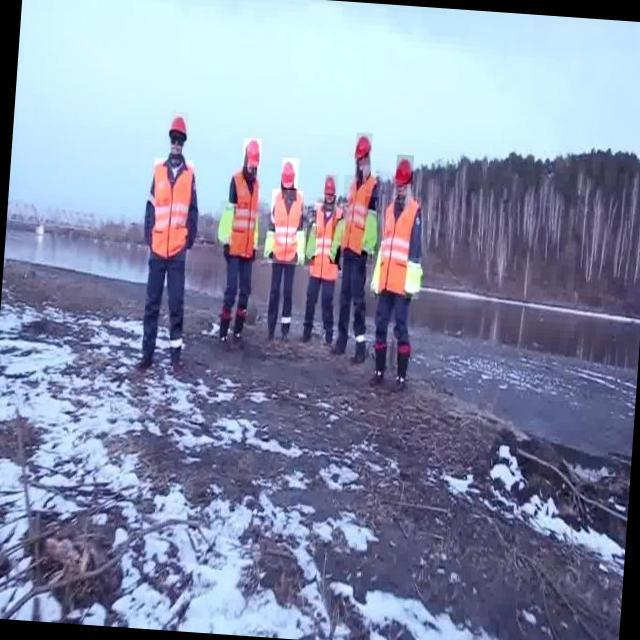Gloves: (354, 248, 368, 273), (219, 242, 233, 263), (332, 245, 343, 268), (402, 289, 412, 310)
Helmet: (147, 157, 194, 261), (281, 158, 301, 189), (242, 138, 262, 168), (354, 132, 372, 165), (395, 154, 414, 184), (169, 111, 188, 140), (325, 175, 340, 196)
Person: (124, 92, 205, 383), (378, 144, 434, 405), (213, 133, 265, 373), (336, 122, 382, 377), (264, 146, 308, 376), (309, 172, 341, 376)
Safety Boot: (217, 306, 252, 355), (391, 337, 417, 399), (162, 335, 193, 383), (370, 337, 392, 393), (132, 339, 157, 379), (265, 315, 294, 347), (332, 328, 354, 363), (352, 332, 370, 370), (298, 321, 316, 350), (321, 322, 335, 351)
Safety Vest: (375, 194, 420, 296), (339, 175, 380, 259), (267, 189, 303, 265), (228, 176, 258, 260), (309, 202, 342, 278), (361, 196, 379, 256), (217, 200, 236, 246), (404, 257, 421, 299), (330, 218, 345, 265), (369, 250, 382, 297), (304, 225, 316, 265), (295, 228, 307, 259), (264, 228, 274, 261)
